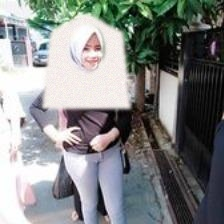Mukena: (41, 13, 131, 108)
